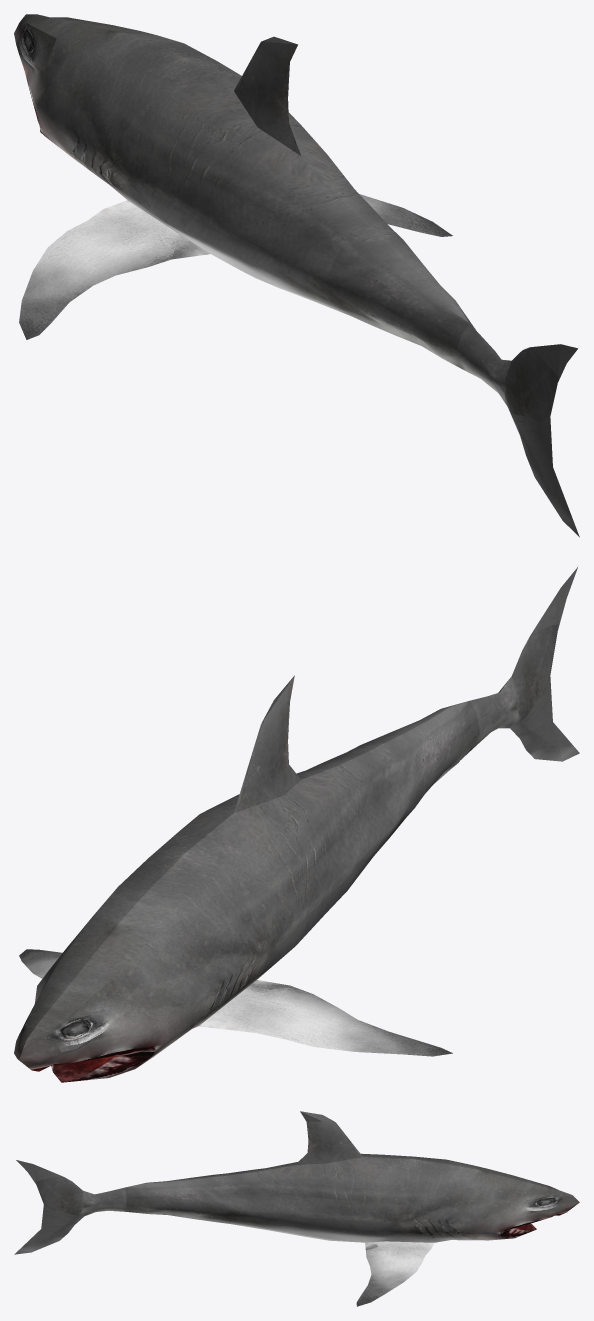
File: rekinek.fbx
3 views of the same model, one above another, from view 1: azimuth 30°, elevation 25°; view 2: azimuth 150°, elevation 25°; view 3: azimuth 270°, elevation 25° (orthographic). The views are drawn at different scales.
Parts seen in each view (by area): view 1: pPlane3; view 2: pPlane3; view 3: pPlane3.
Boxes of the visible parts, left/top/right/bottom form: pPlane3: left=14, top=14, right=579, bottom=537; pPlane3: left=14, top=567, right=579, bottom=1082; pPlane3: left=14, top=1111, right=579, bottom=1306.
Bounding box in the file's own units: 2.95 × 1.88 × 6.71.
Materials: 1 (1 with a texture image).
